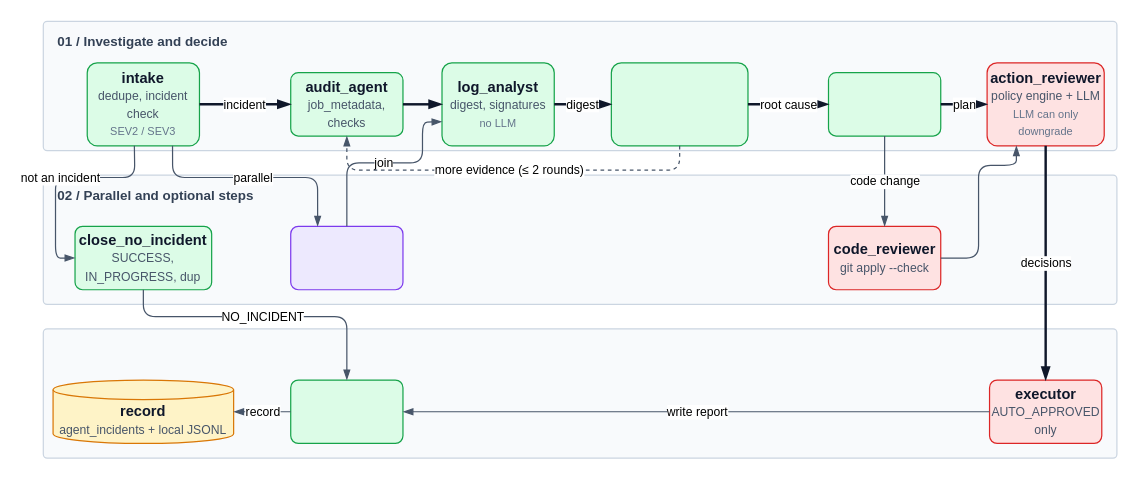
This 1138x479 diagram has some shape labels left out. Here are the shapes that lost their labels. From the top down, the box of each, then its label:
(610, 62, 748, 146): investigator root cause category signature ≥ 0.85 decides
(827, 71, 941, 136): action_planner playbook actions
(290, 225, 403, 290): gcp_agent Airflow, Dataflow, IAM
(290, 379, 403, 443): report_writer report.pdf, change.md
(42, 328, 1117, 458): 03 / Act and record
